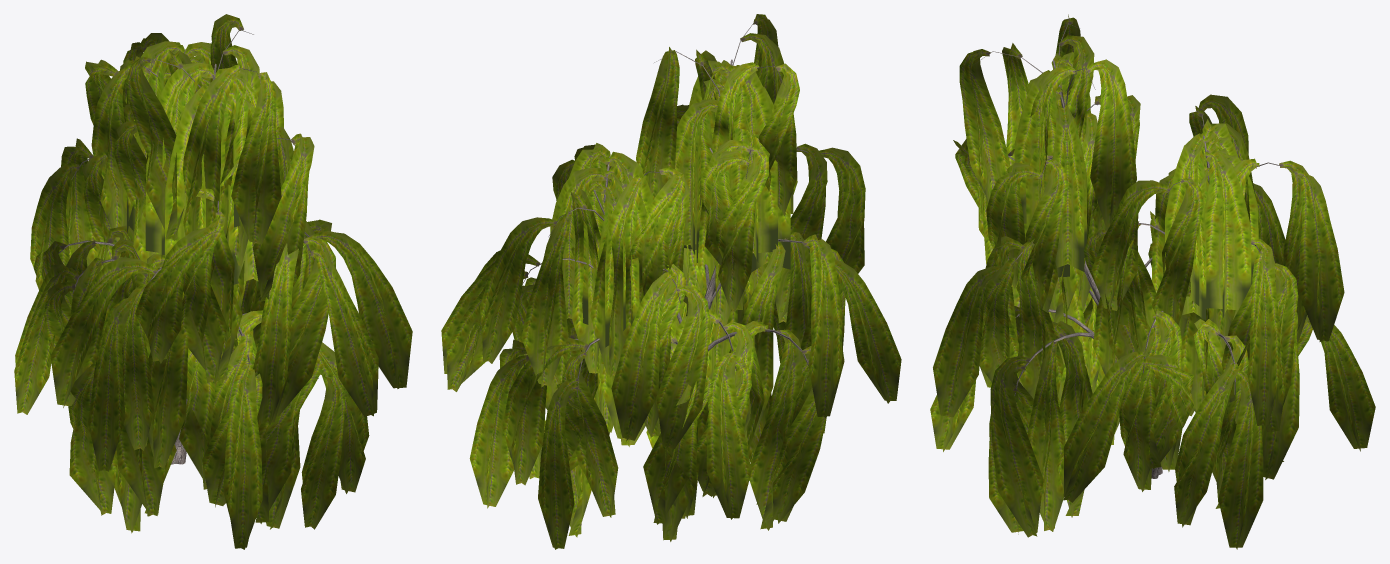
Rendered from Tree.fbx.
3 views of the same model, side by side, from view 1: azimuth 30°, elevation 25°; view 2: azimuth 150°, elevation 25°; view 3: azimuth 270°, elevation 25° (orthographic). The views are drawn at different scales.
Visible parts, largest first — view 1: Tree_1; view 2: Tree_1; view 3: Tree_1.
Part boxes in pixels (x1,y1,x2,y2): Tree_1: (14, 14, 412, 549); Tree_1: (441, 14, 901, 549); Tree_1: (930, 14, 1375, 549).
Bounding box in the file's own units: 72.78 × 94.78 × 82.65.
Materials: 2 (2 with a texture image).
